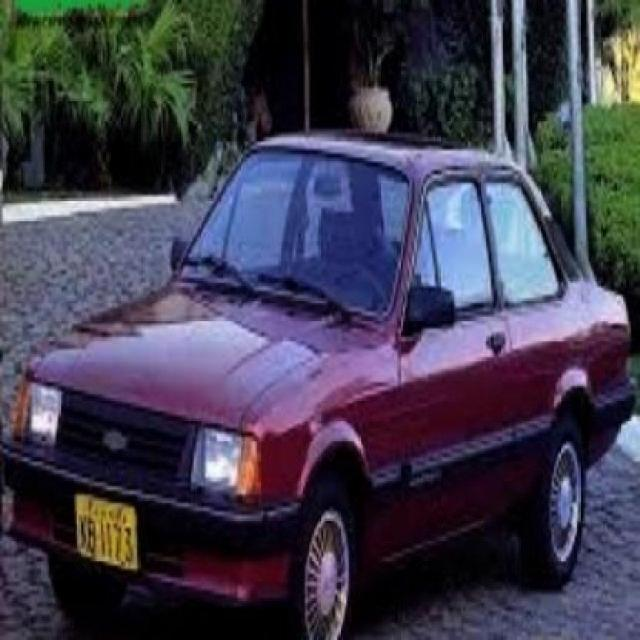car: (6, 126, 636, 632)
